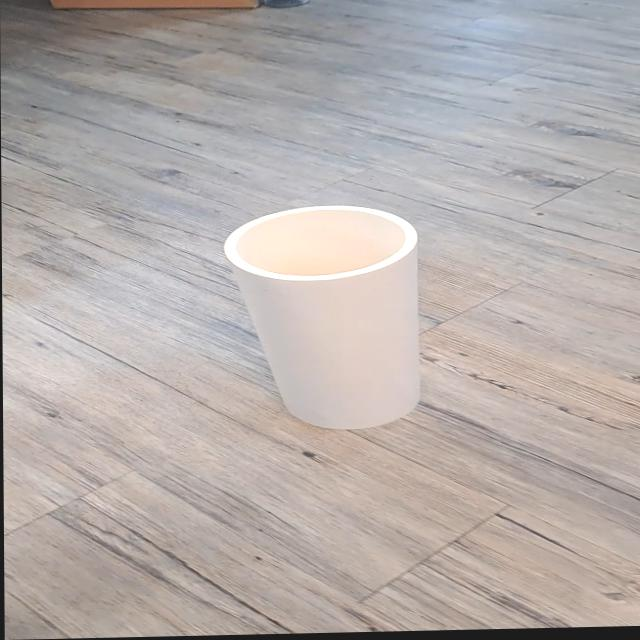CORAL: (180, 194, 526, 468)
